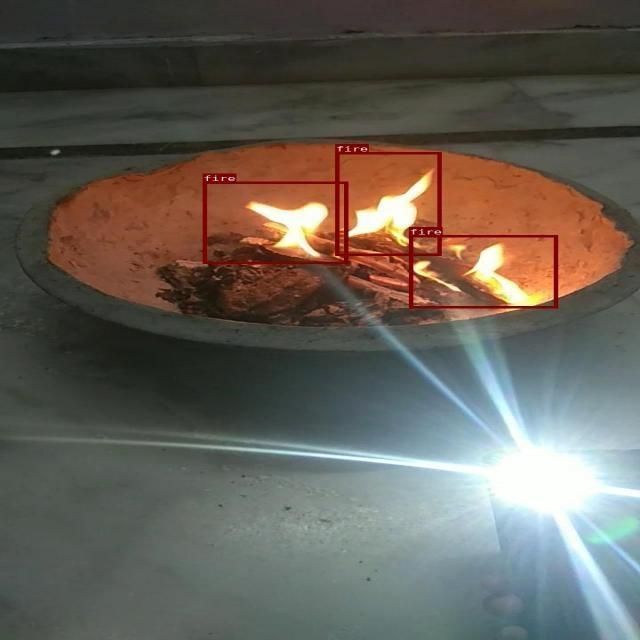fire: (203, 181, 347, 263), (335, 152, 441, 255), (409, 235, 557, 308)
